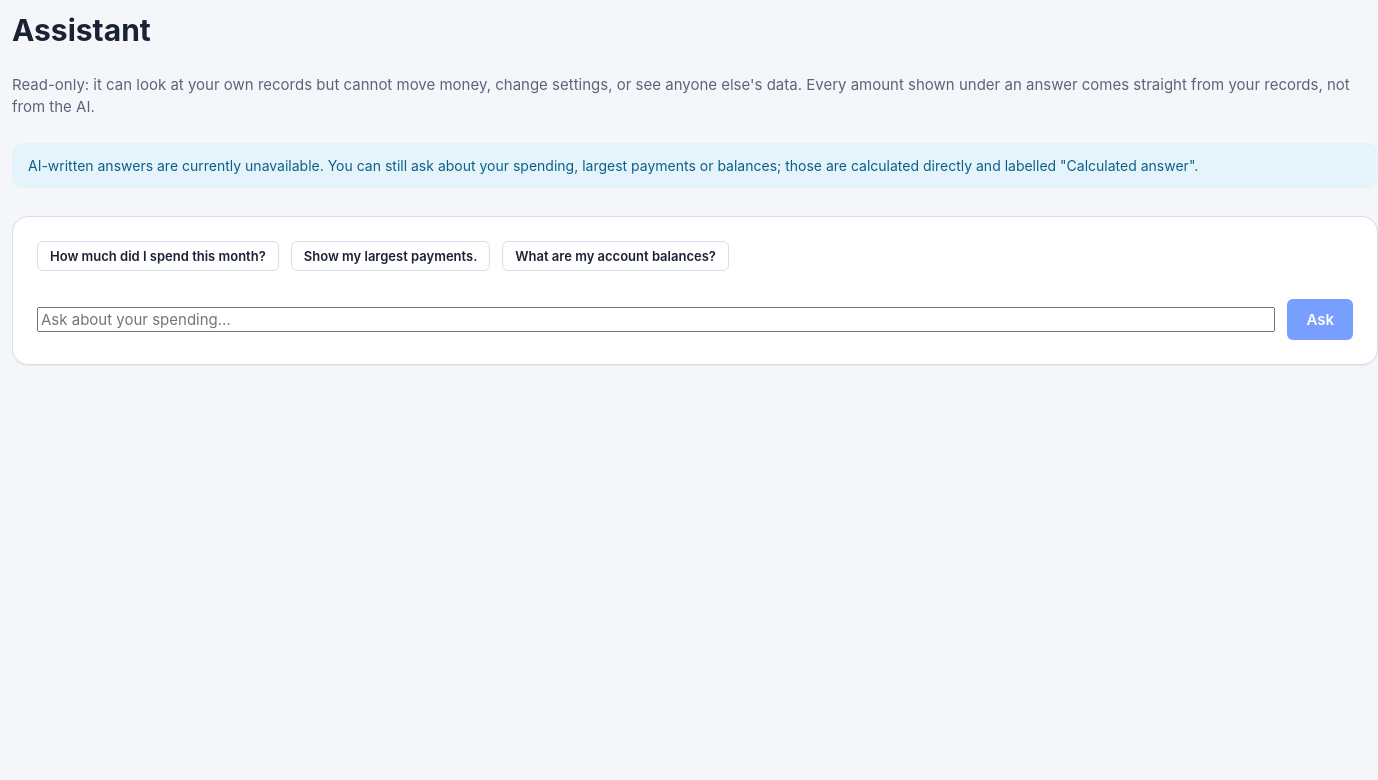
Scenario: AiAssistantPage › labels a verified model answer as an AI answer and still renders figures from backend fields
The width and height of the screenshot is (1378, 780).
In the field named "Ask a question": (656, 319) 37,306 -> 1275,332, type "What did I spend?"
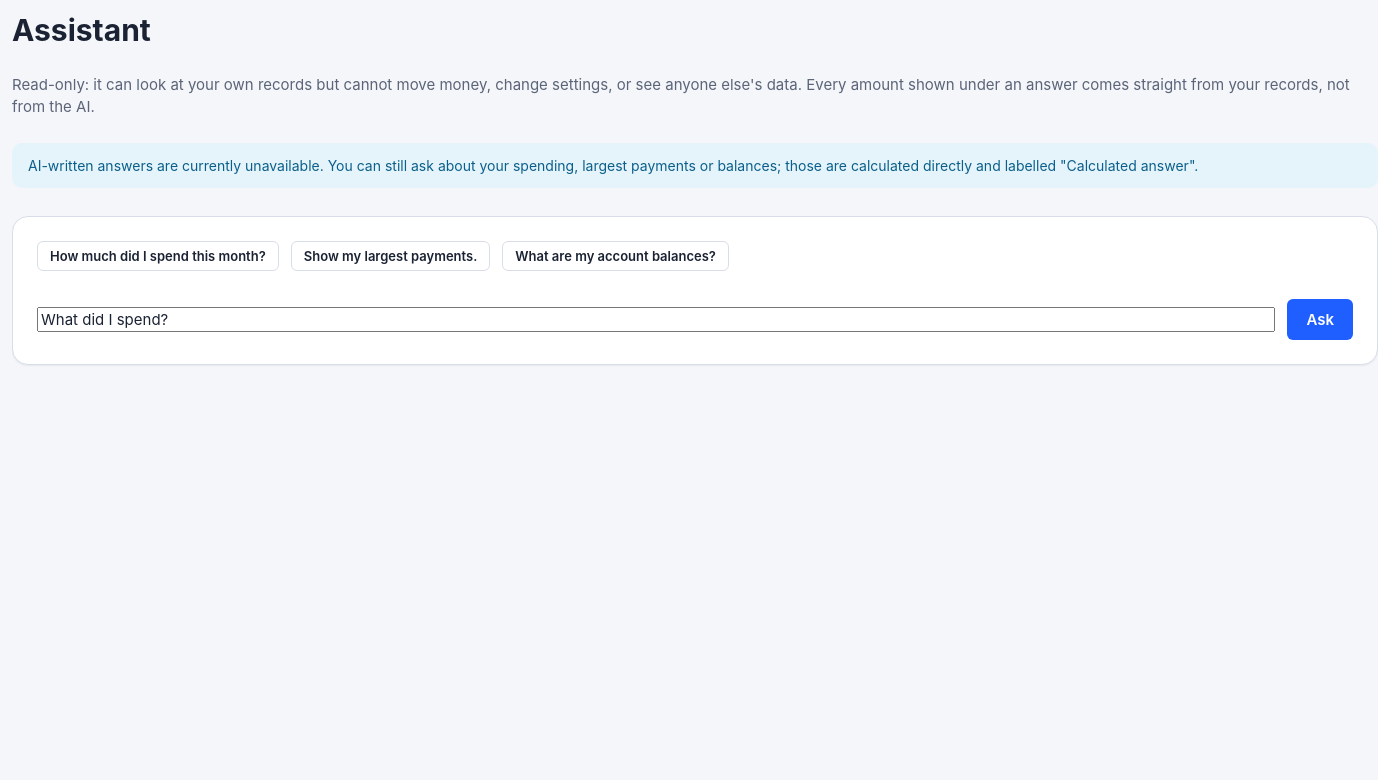
Click the button "Ask": (1320, 319) 1287,298 -> 1353,340
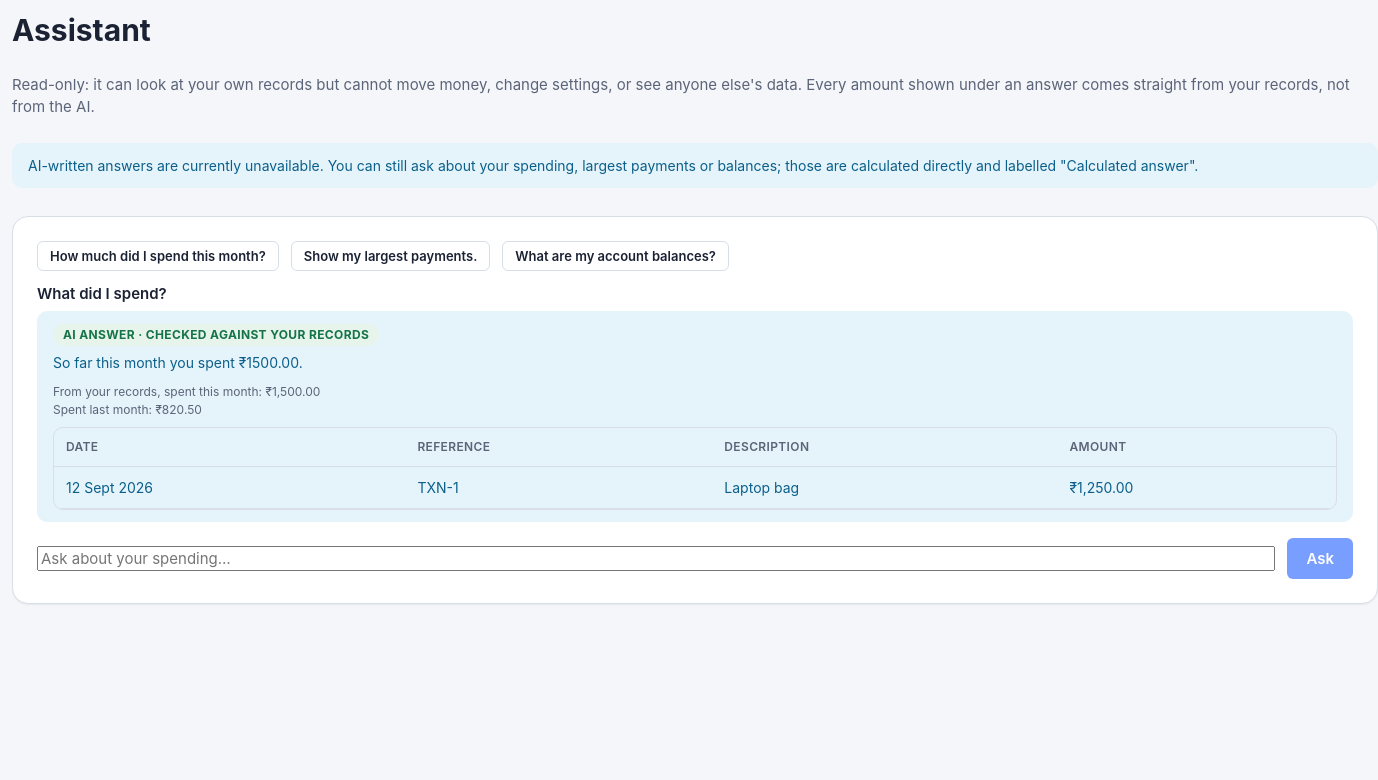
expect the text "What did I spend?" is shown: met, box 37,284 -> 167,302
expect the text "AI answer · checked against your records" is shown: met, box 53,324 -> 379,346
expect the element named "Figures from your records" shows "1,500.00": met, box 265,384 -> 320,399
